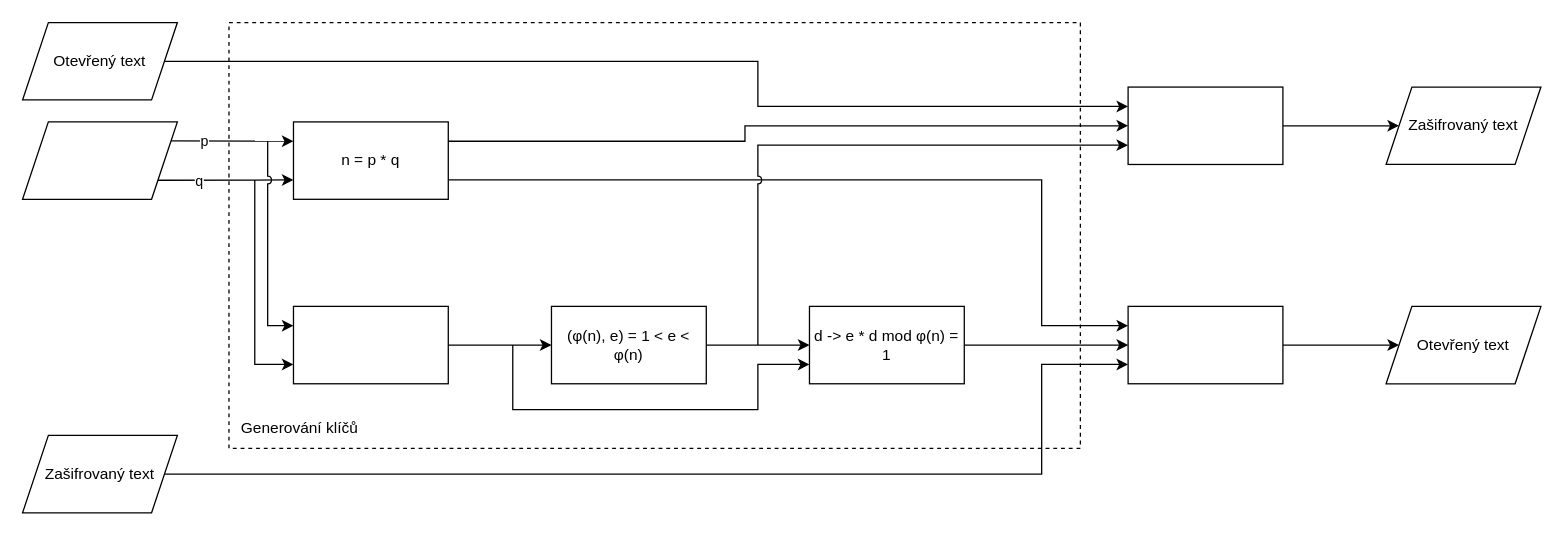
Image size: 1563x535. Some labels were removed from this diagram. Each missing label, with the centre of its shape:
Dešifrování P = Cᴰ mod n: the point at 1205,344
Hodnoty ke generování klíčů: the point at 99,160
Šifrování C = Pᵉ mod n: the point at 1205,125
φ(n) = (p-1) * (q-1): the point at 370,344
